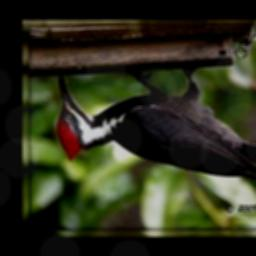Woodpecker: (55, 64, 256, 186)
